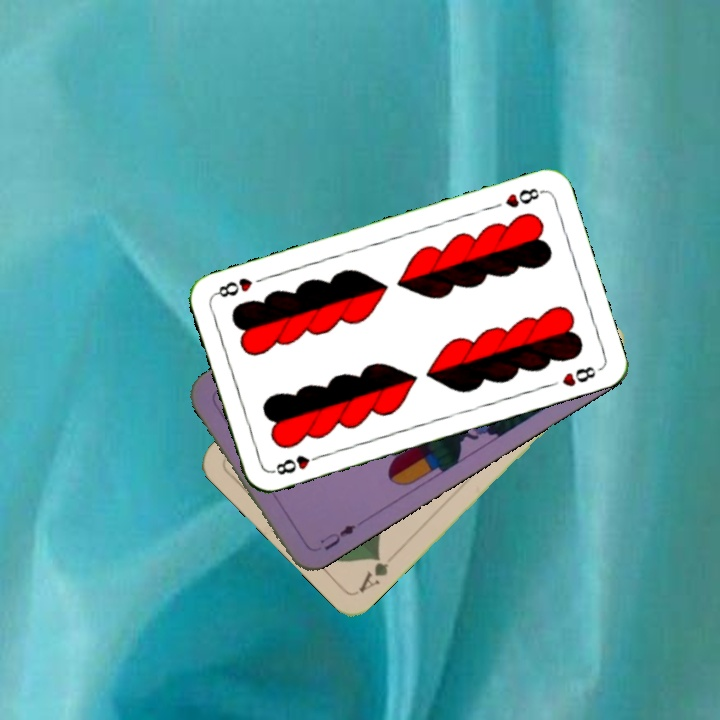EU: (316, 520, 358, 553)
GA: (354, 551, 392, 596)
H8: (268, 450, 325, 478), (501, 184, 546, 211)
